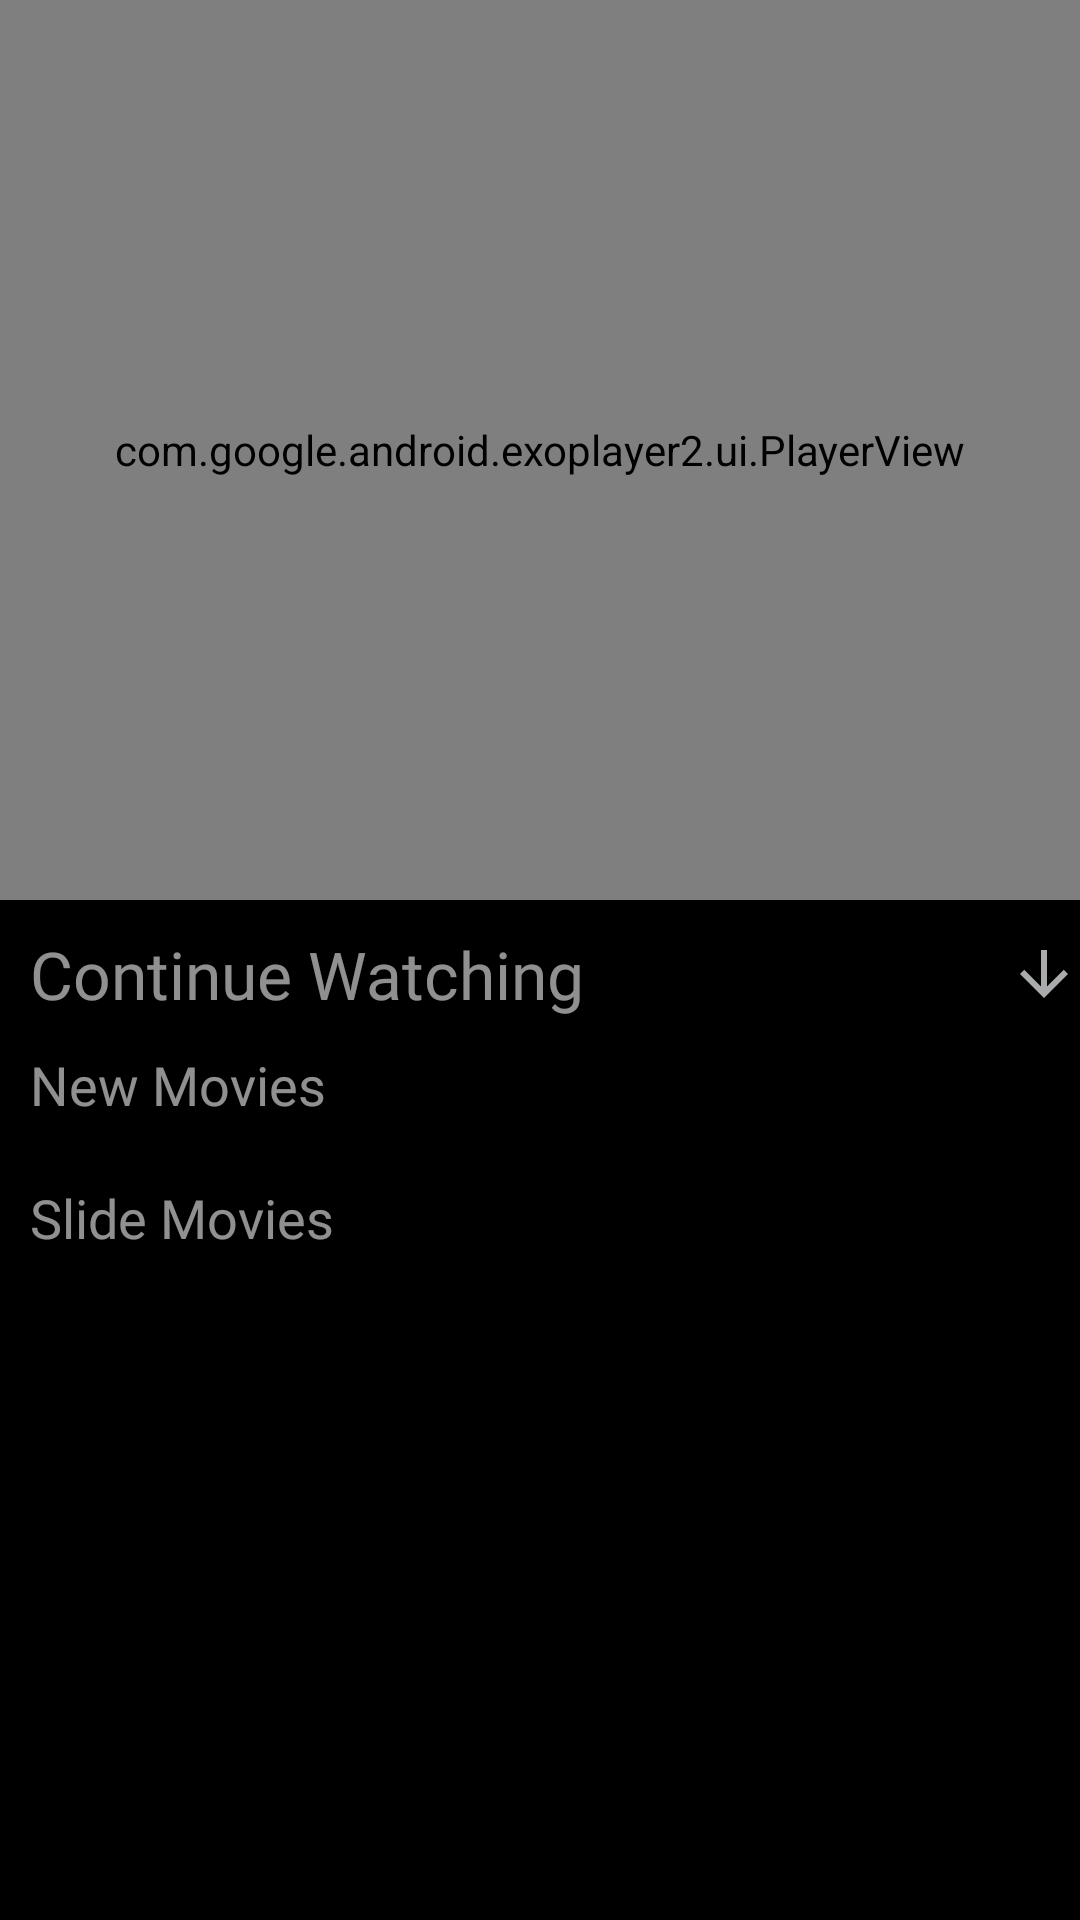

Named icons in this screenshot (1080w x 1920h) and their centers, [x,y]:
arrow downward: [1044,974]
